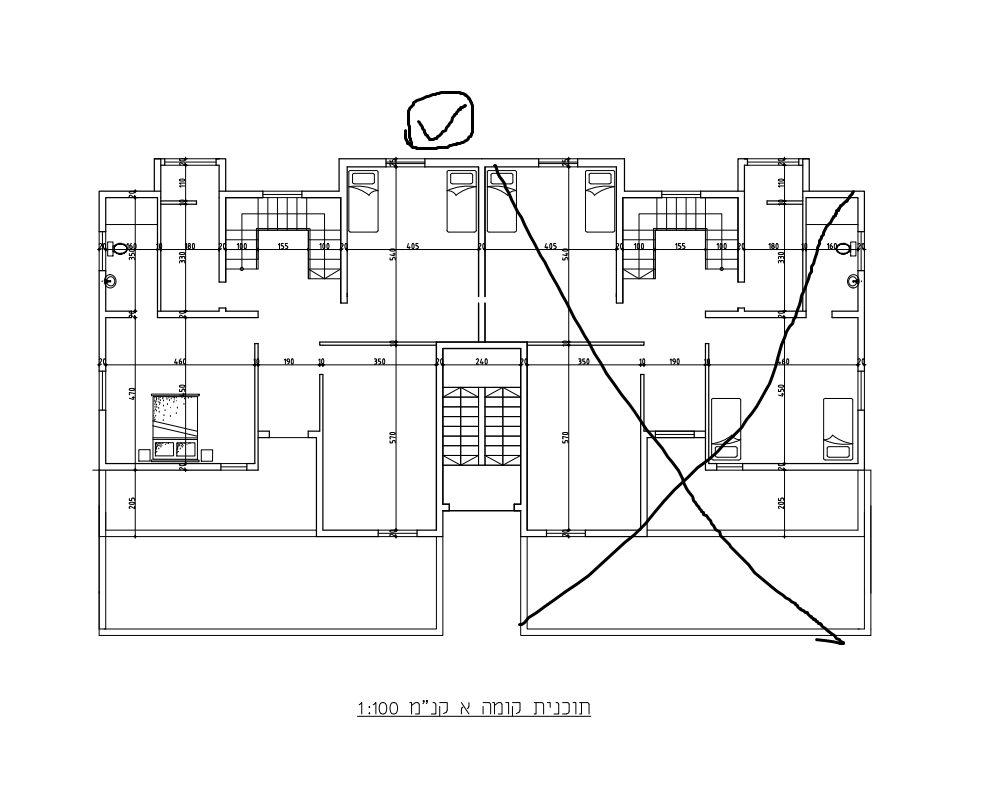wall: (107, 628, 444, 634), (98, 409, 104, 633)
window: (660, 190, 700, 198), (858, 371, 865, 410), (99, 371, 106, 409), (378, 531, 415, 536)
